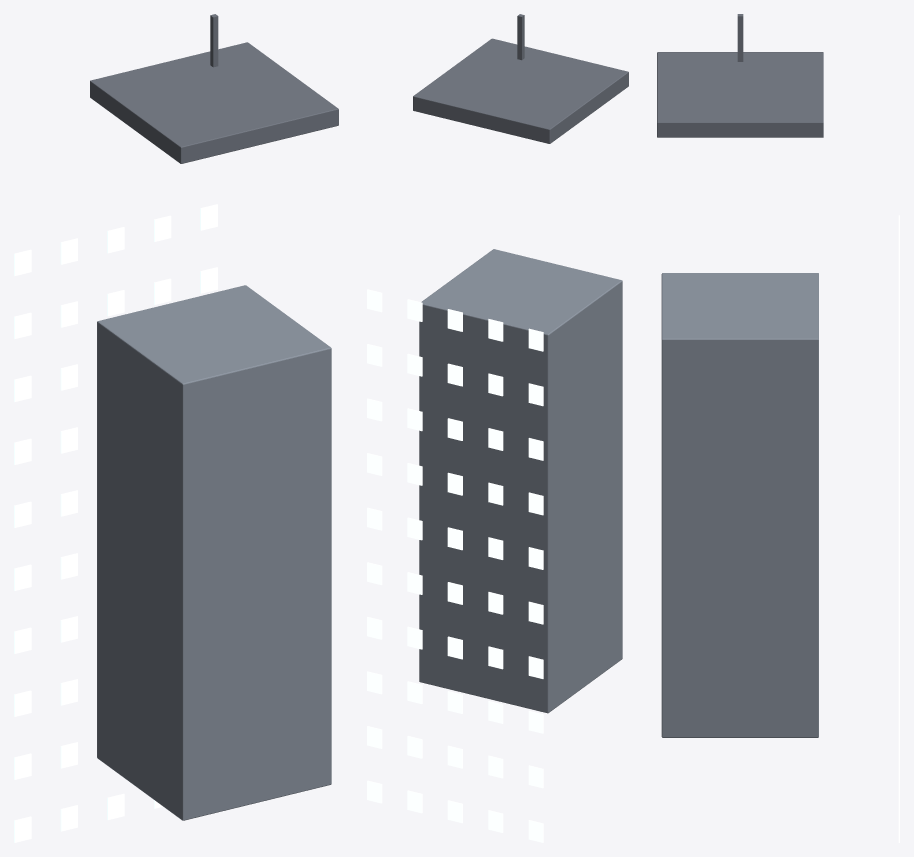
The model's file is building_office.glb.
The picture shows the model from 3 angles, left to right: view 1: azimuth 30°, elevation 25°; view 2: azimuth 150°, elevation 25°; view 3: azimuth 270°, elevation 25°; orthographic projection. The views are drawn at different scales.
Visible parts, largest first — view 1: tower; view 2: tower; view 3: tower.
Boxes of the visible parts, bbox=[...] form: tower: bbox=[14, 14, 338, 842]; tower: bbox=[367, 14, 628, 842]; tower: bbox=[657, 14, 899, 842].
Size of the model in its own units: 6.8 by 27.63 by 7.72.
